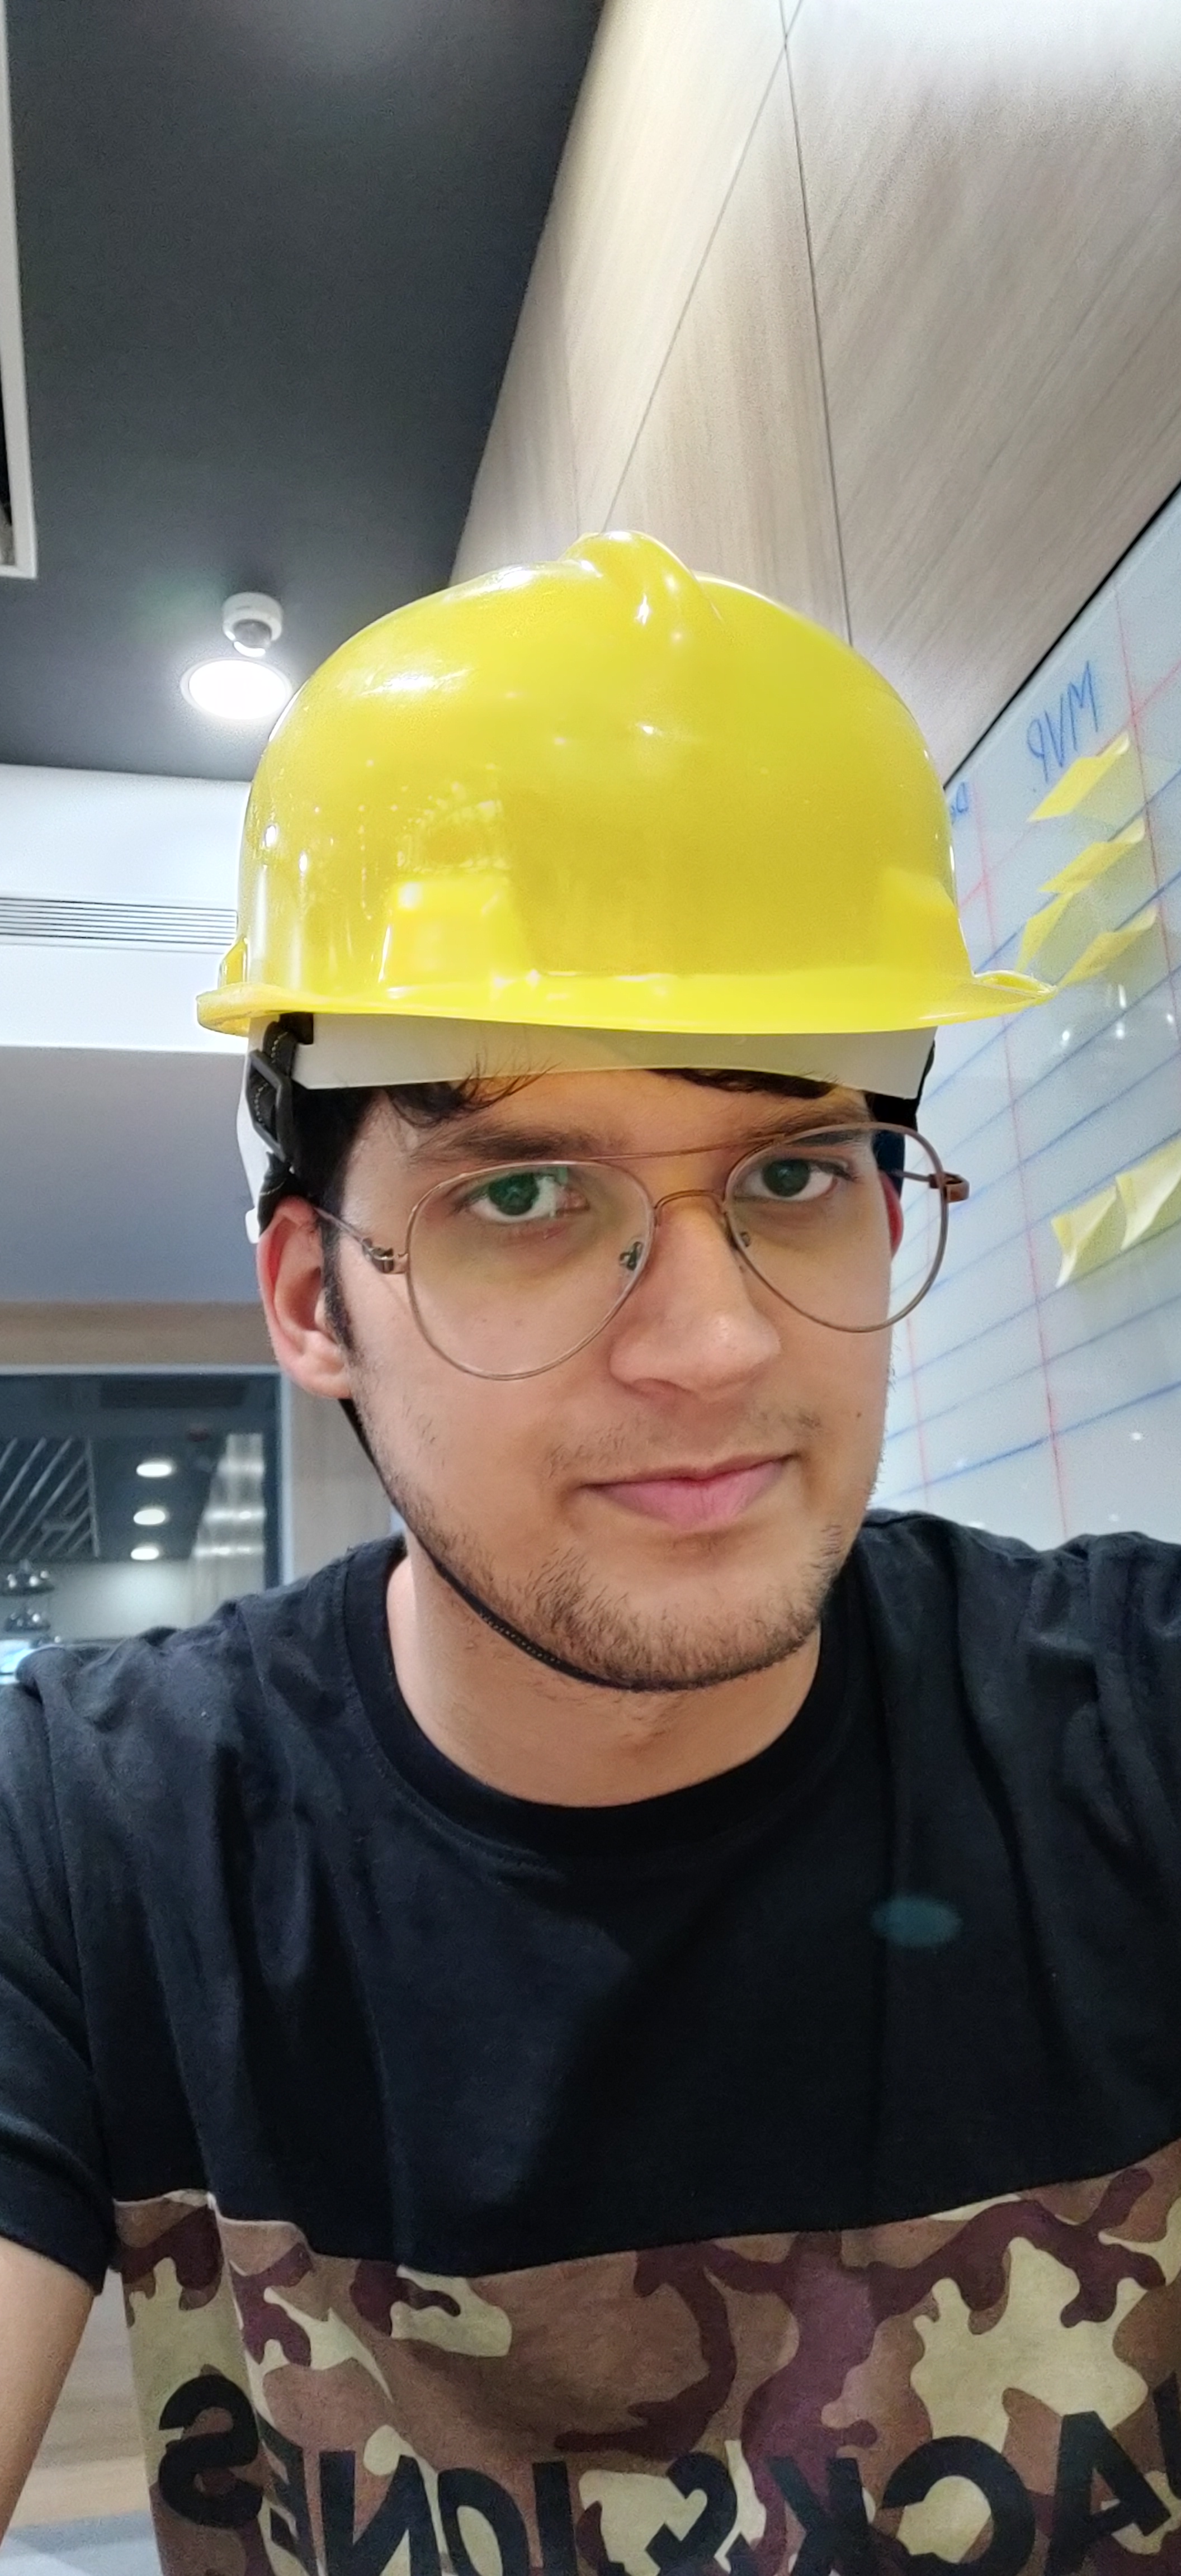Person_wearing_helmet: (205, 508, 1073, 1382)
